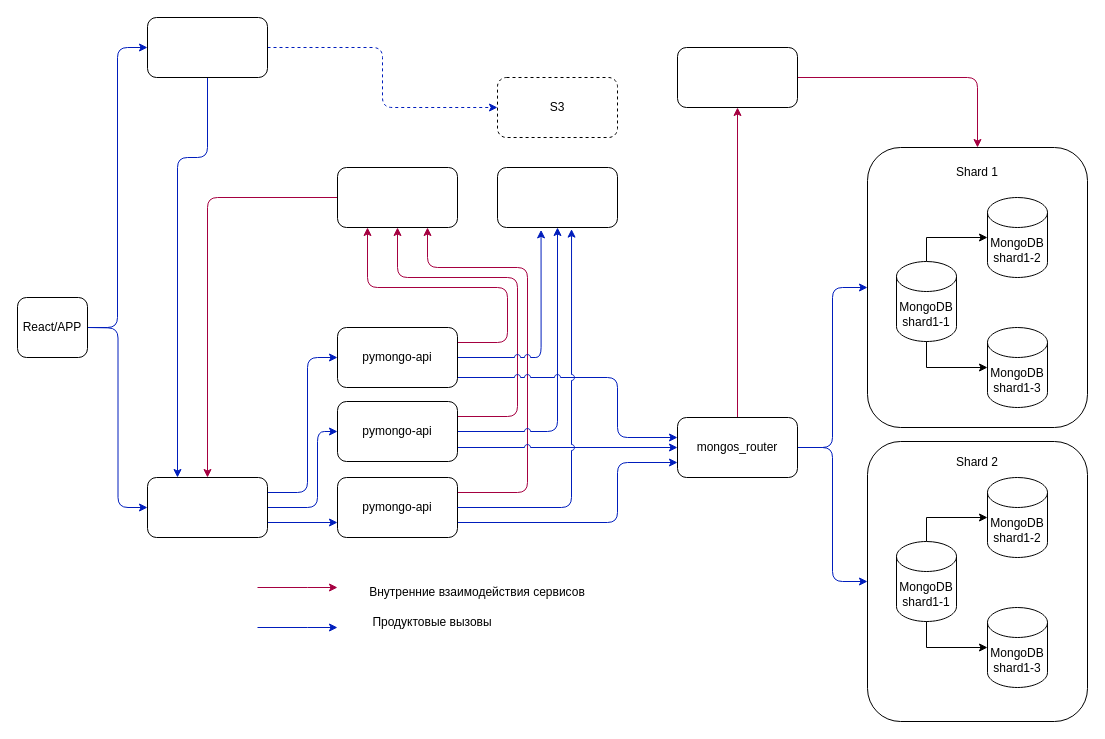
Some shapes in this 1105 by 739 pixel diagram are drawn without their labels. The centre of each missing label's shape, as x and y in pixels:
"API Gateway" belongs at (207,507).
"CDN" belongs at (207,47).
"configSrv" belongs at (737,77).
"Consul" belongs at (397,197).
"Redis" belongs at (557,197).
